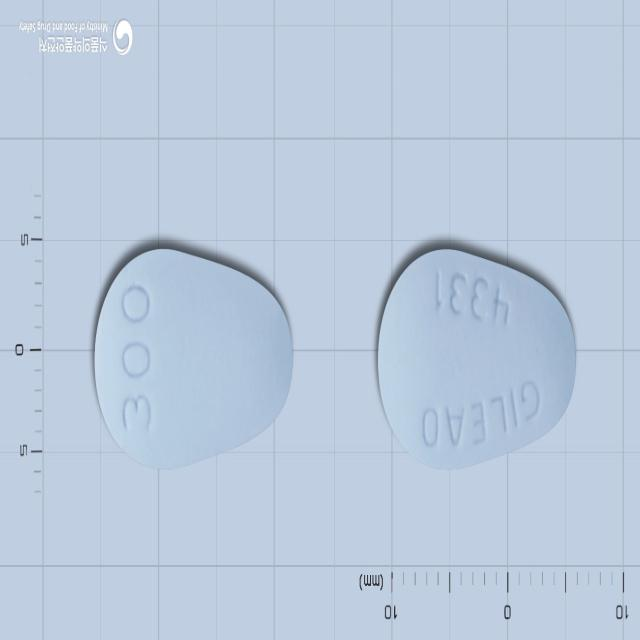Clarithin: (94, 249, 293, 470), (376, 250, 576, 468)
